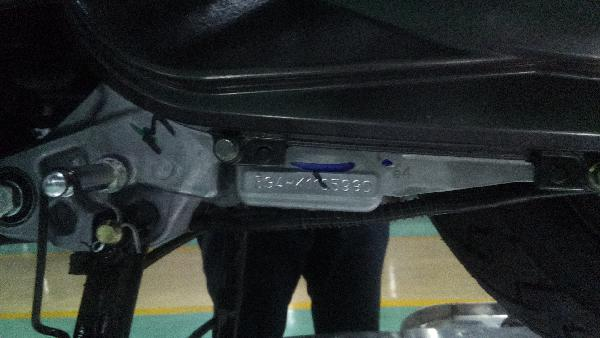box: (253, 174, 374, 193)
